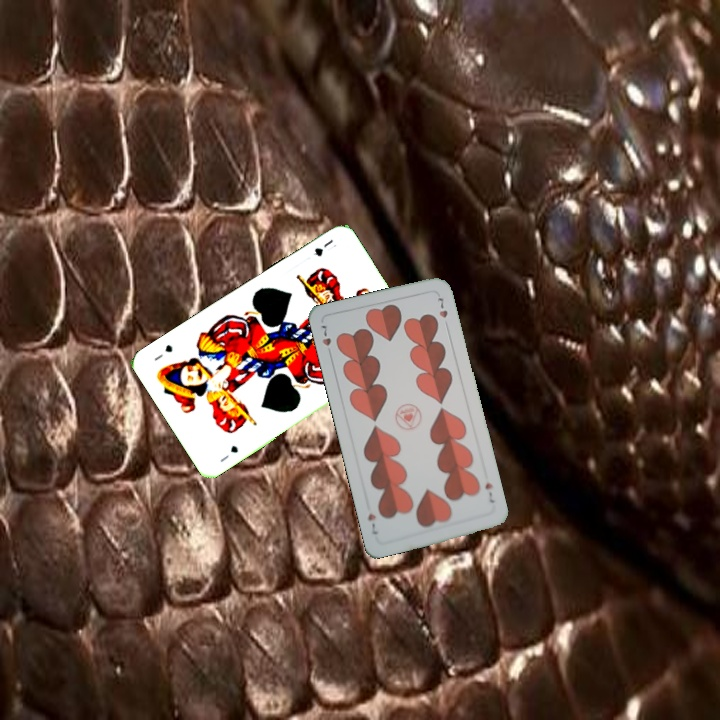GU: (310, 235, 339, 259), (216, 441, 241, 465)
H7: (317, 321, 334, 359), (481, 479, 497, 505)
